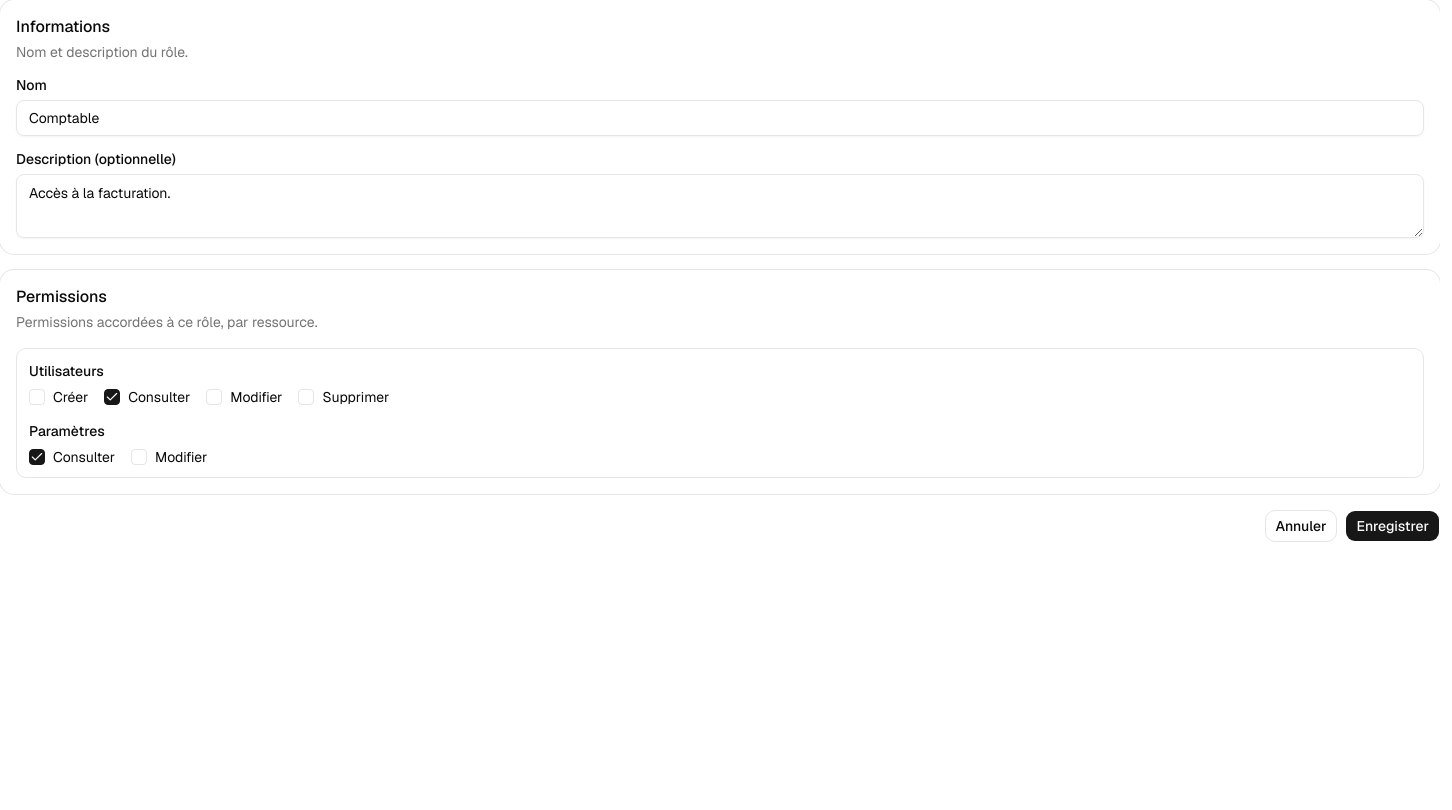
it: RoleEditForm — rôle personnalisé (modifiable) › affiche le garde-fou serveur dans une alerte inline, sans naviguer
Click the button "Enregistrer" at (1393, 526), box [1346, 510, 1440, 542]
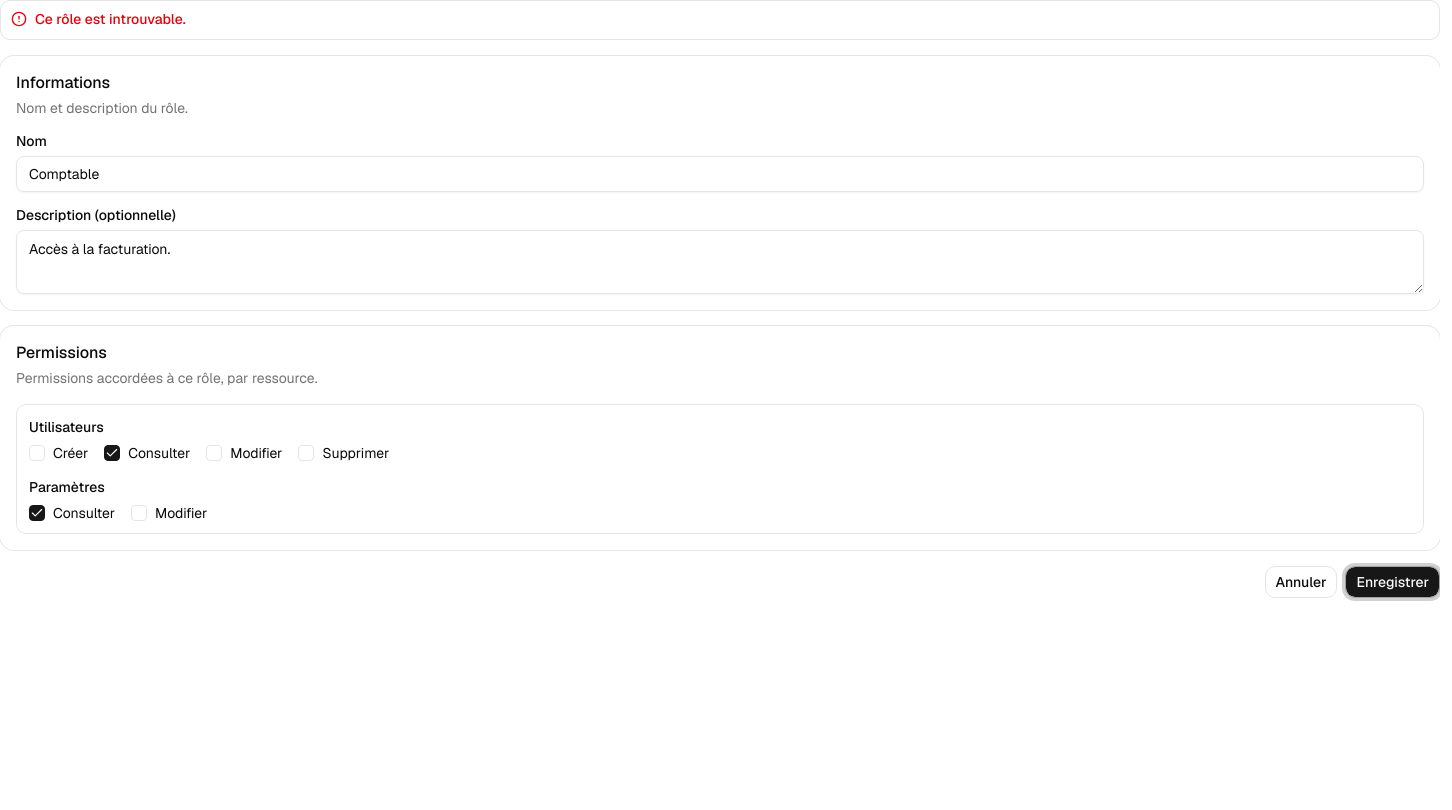
Expected: the message reads "Ce rôle est introuvable.", [35, 10, 186, 28]
